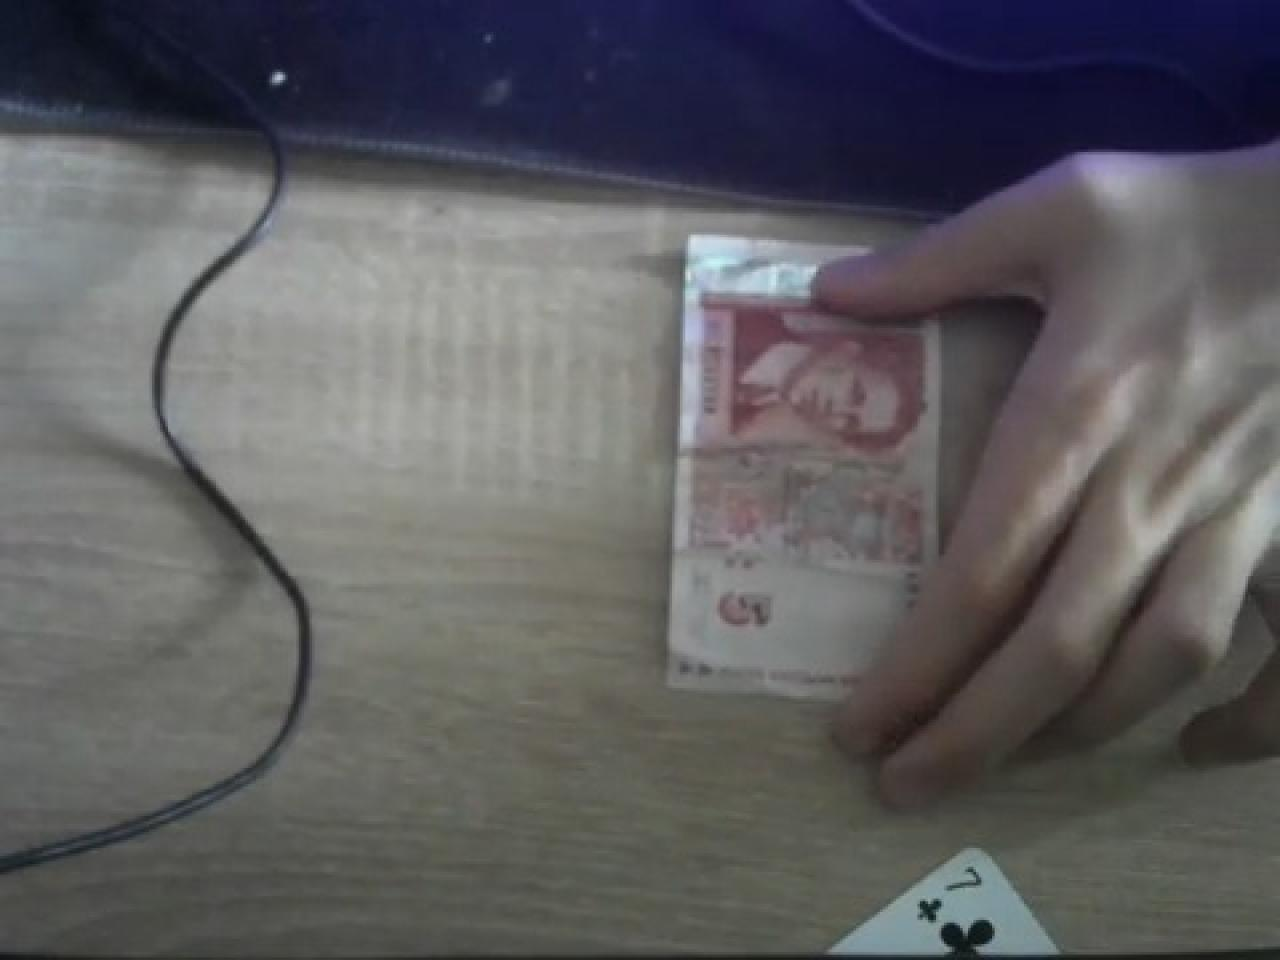5leva: (661, 235, 1021, 707)
